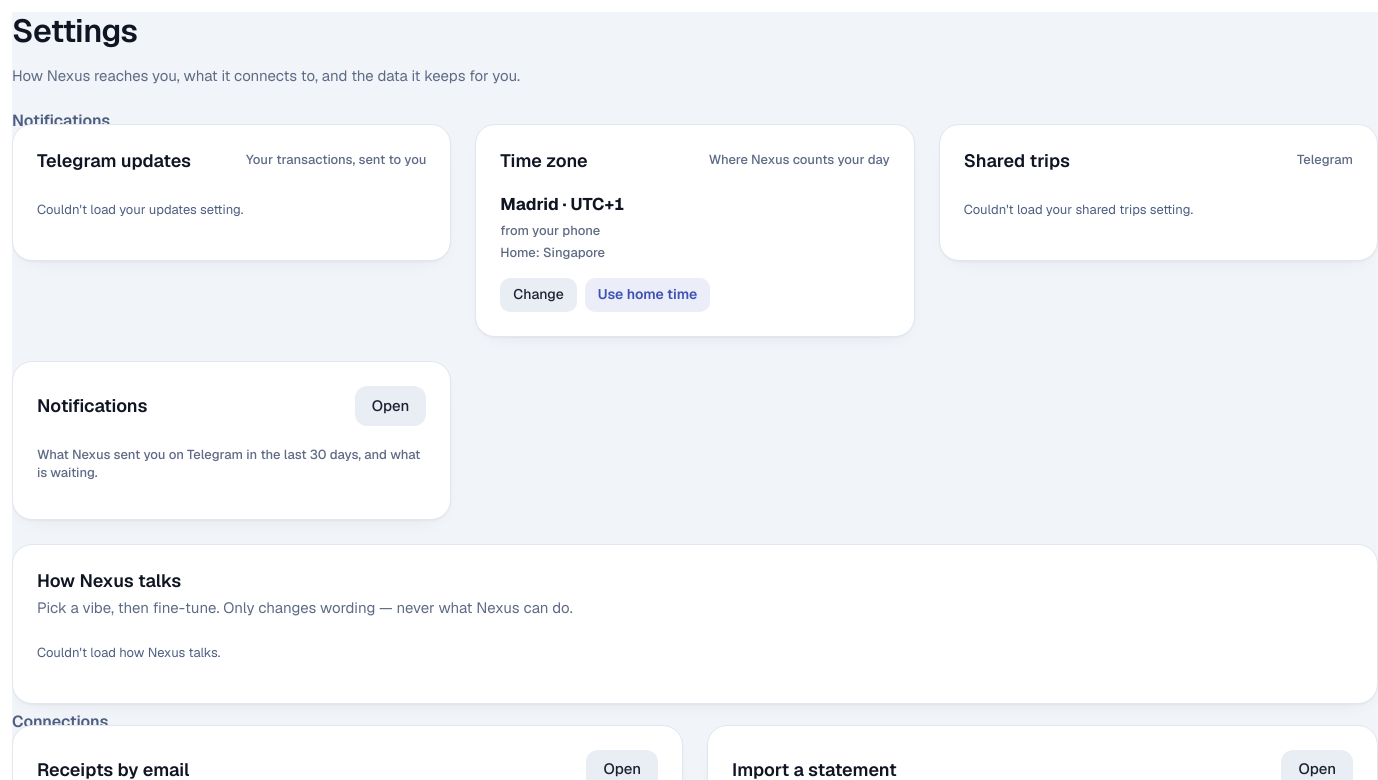
Scenario: Settings › goes back to the home zone
Click the button "Use home time" at [648, 295], box x1=585 y1=278 x2=710 y2=312
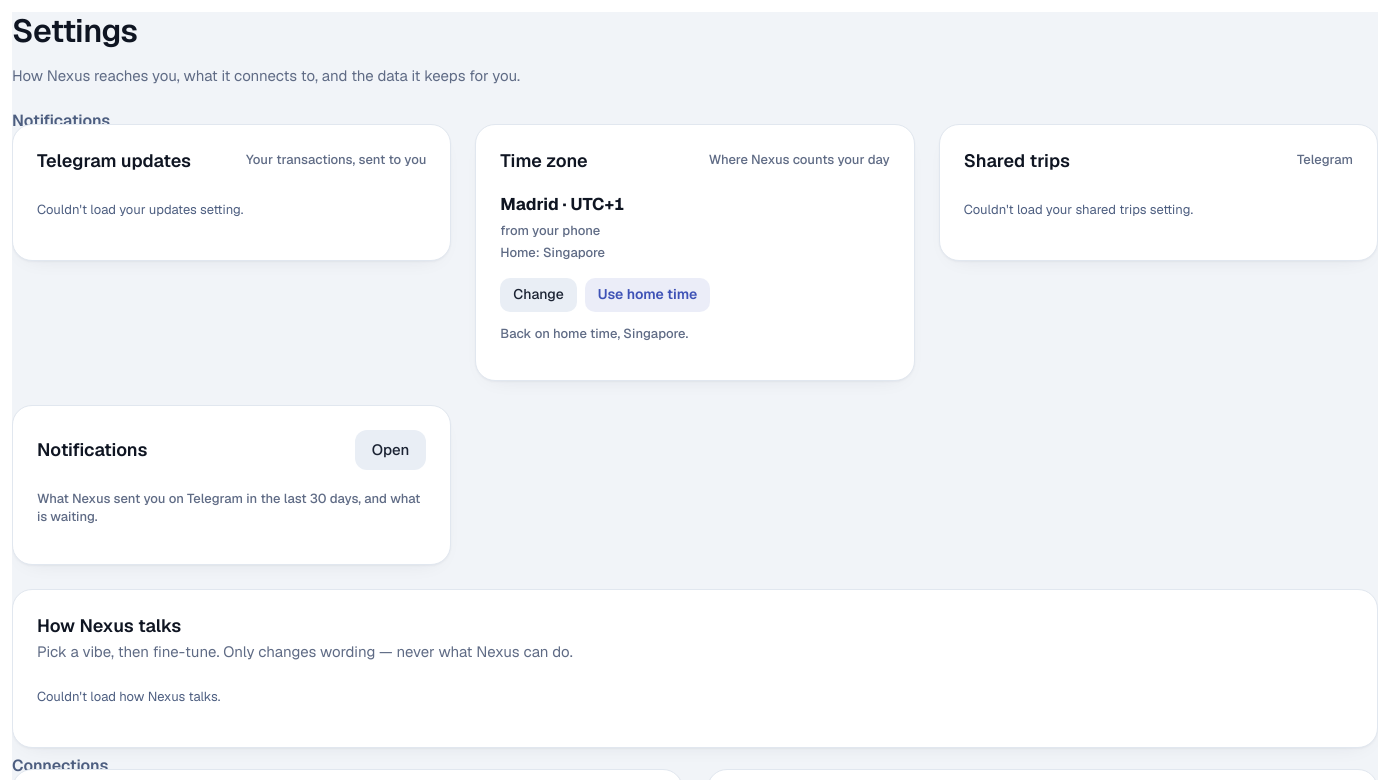
Now the message reads "Back on home time, Singapore.", box x1=500 y1=325 x2=688 y2=342
